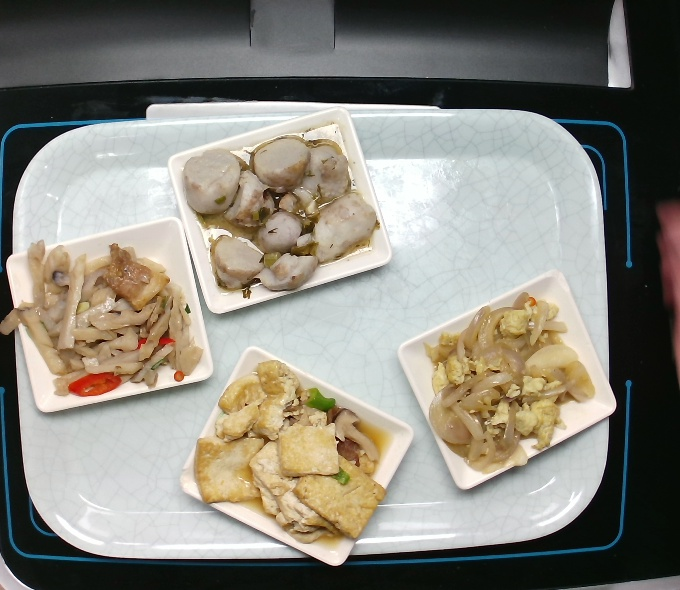wcq-JiaChangDouFu: (189, 361, 394, 543)
wcq-QingChaoOuPian: (1, 238, 207, 393)
wcq-YangCongChaoDan: (420, 289, 599, 477)
wcq-YangYu: (172, 129, 376, 301)
